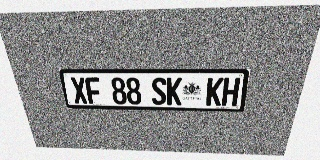8: (125, 77, 142, 105), (110, 77, 127, 104)
F: (84, 77, 102, 104)
H: (221, 78, 240, 106)
K: (206, 78, 224, 106), (167, 77, 182, 105)
S: (151, 77, 166, 105)
X: (70, 77, 88, 104)
